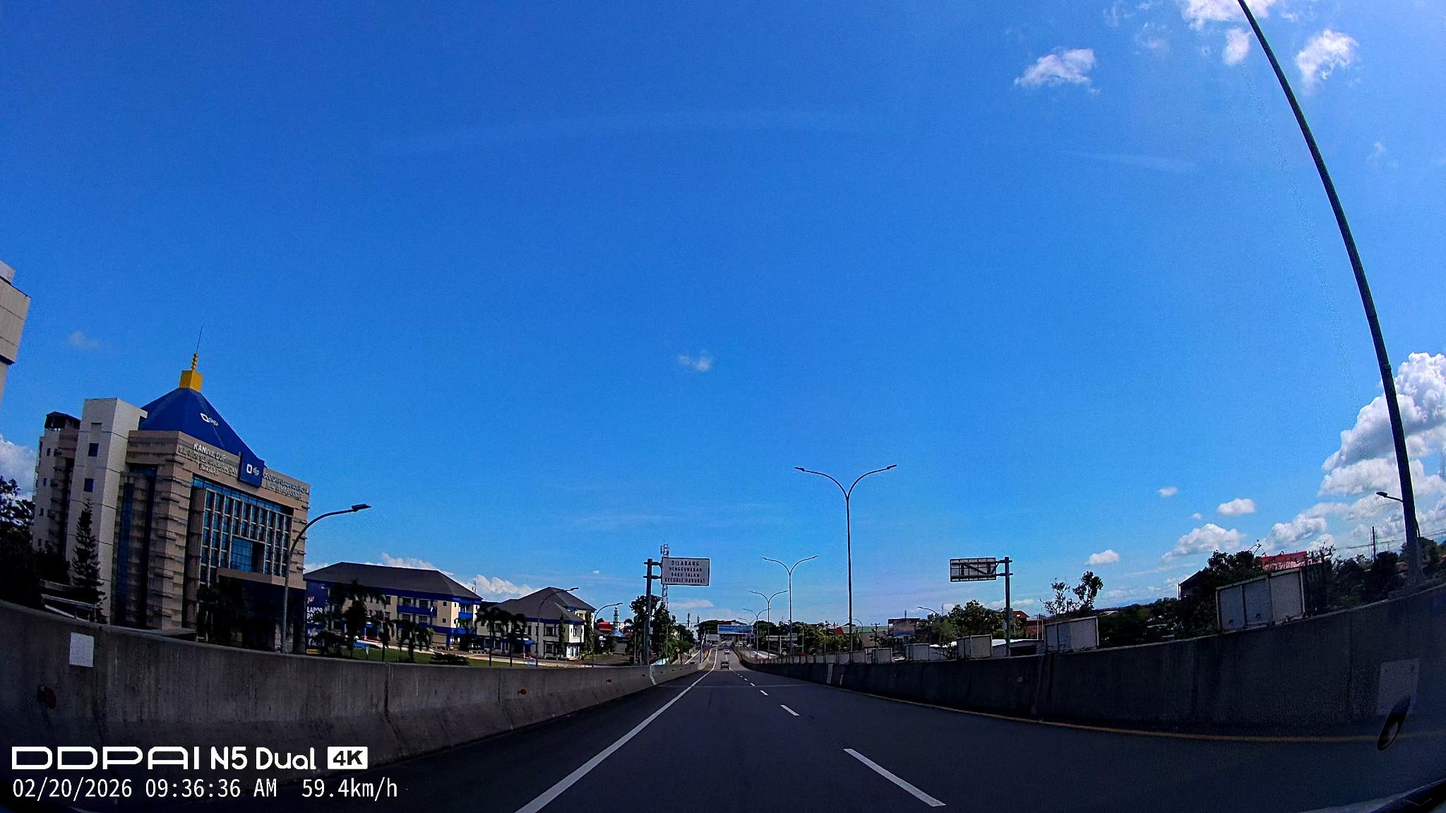rambu_teks: (660, 557, 710, 586)
